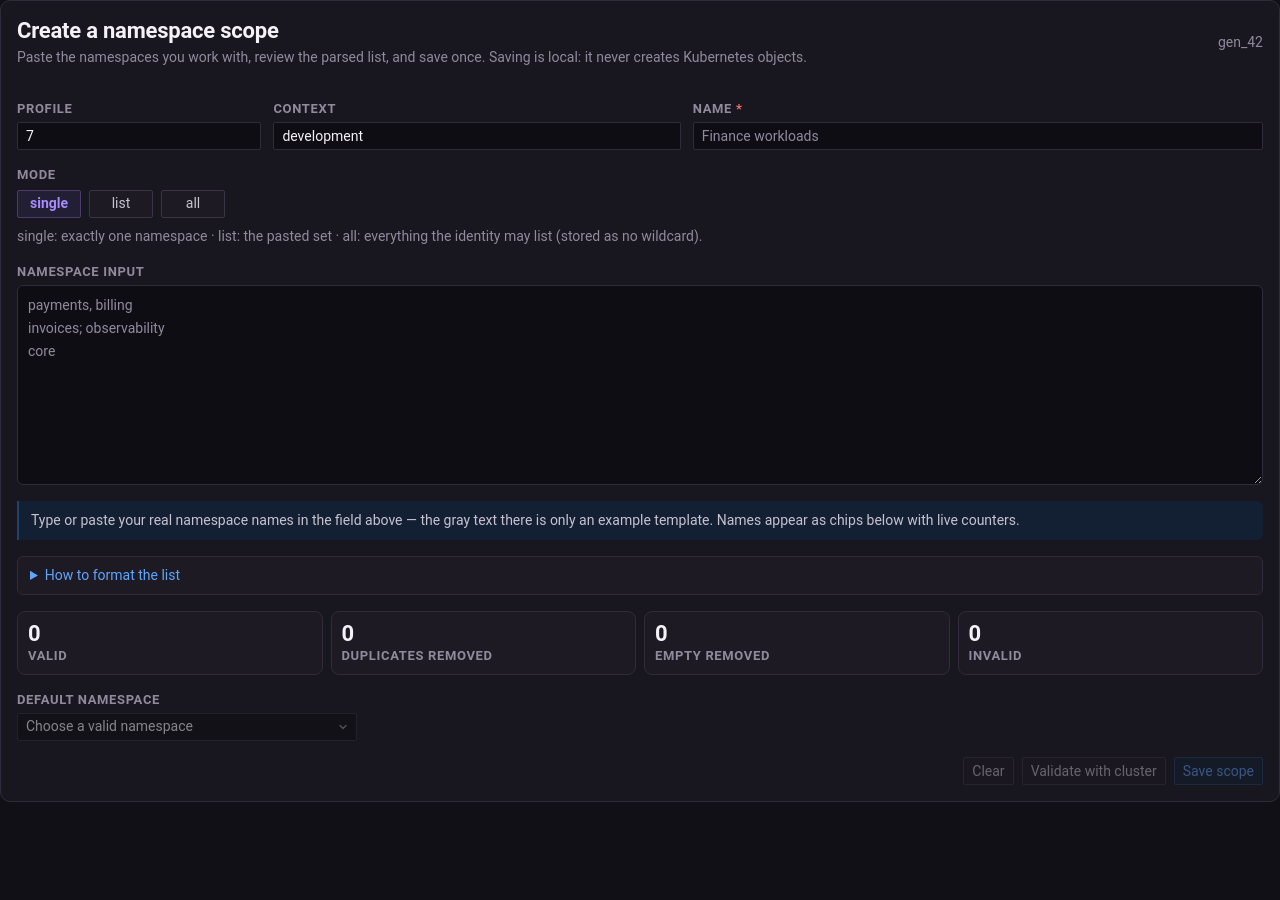
Scenario: namespace scope editor › clears a newly saved scope only after a successful save (false)
In the text box labelled "Namespace input": point(640, 385) [17, 285, 1263, 485], type "payments"
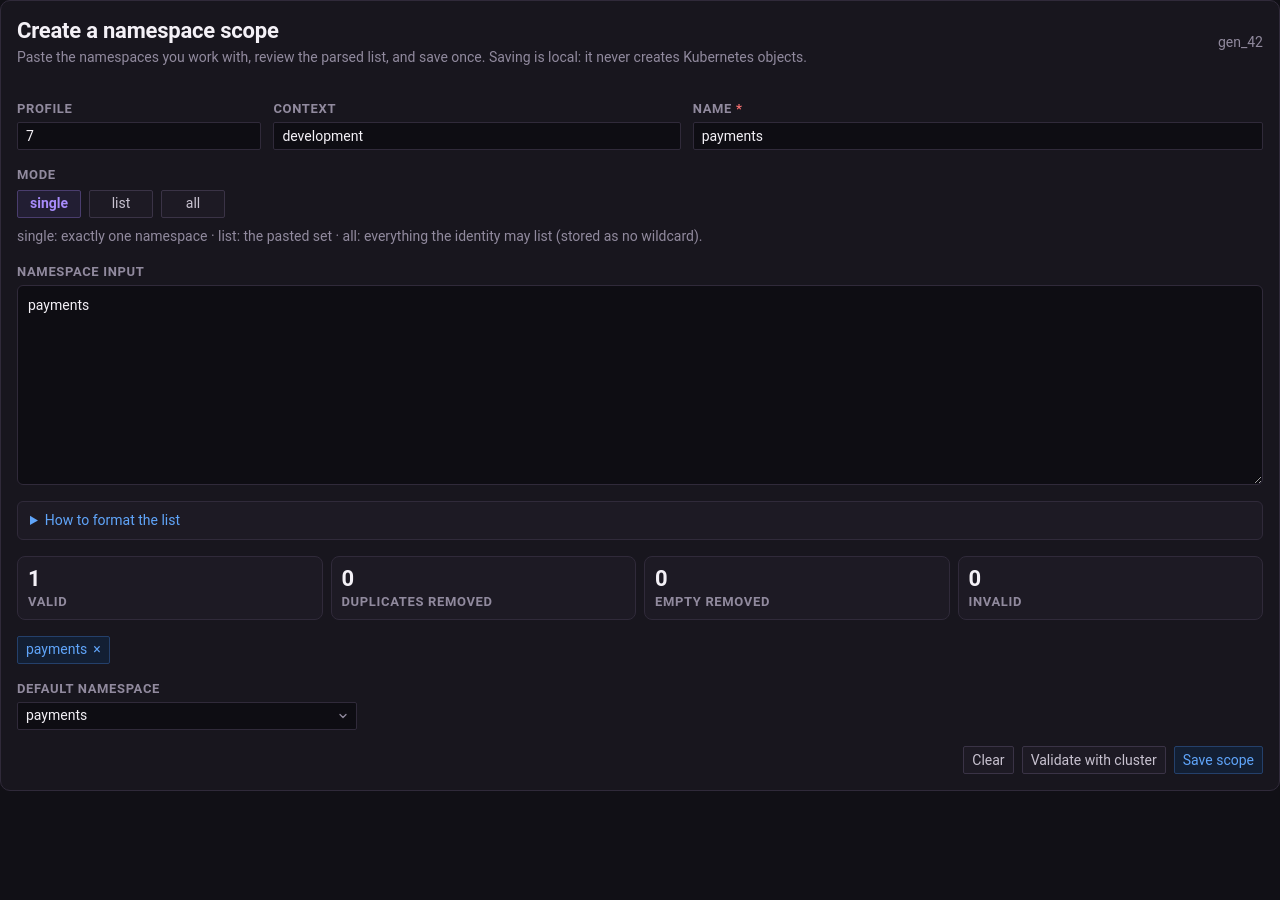
Replace the text in the field named "Scope name" with "New scope": point(978, 136) [693, 122, 1263, 150]
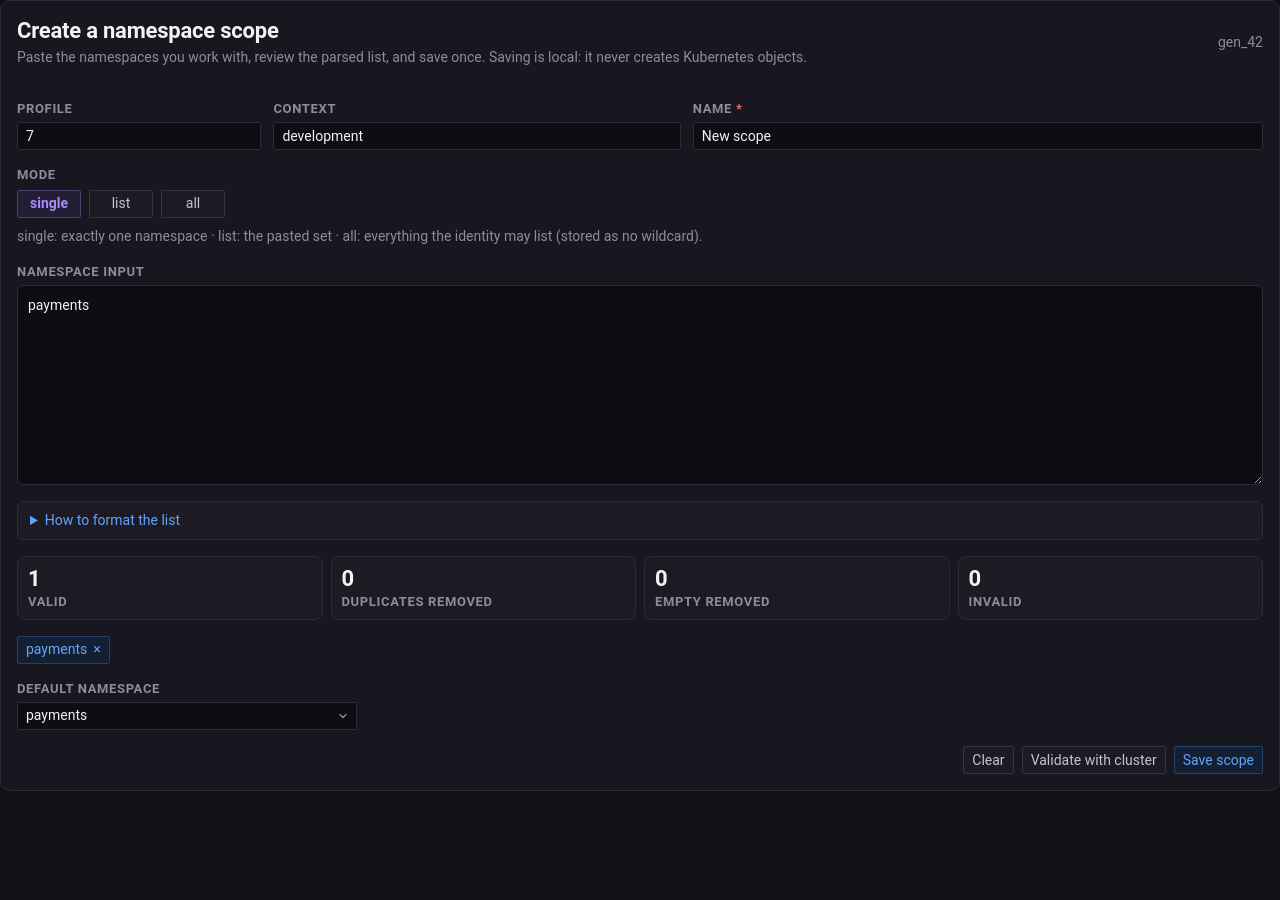
Click the button "Save scope": point(1218, 760) [1174, 746, 1263, 774]
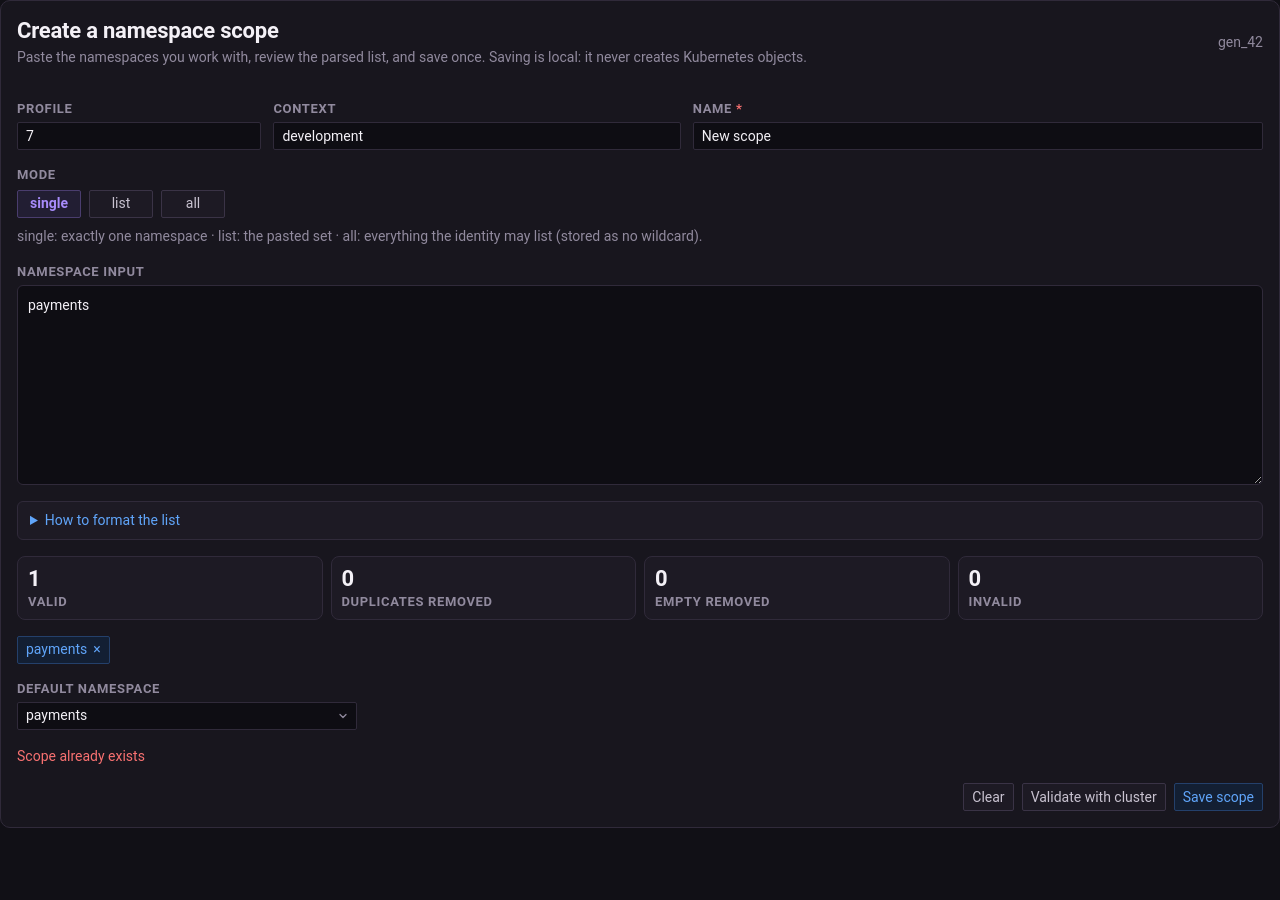
Expected: the message "Scope already exists" is shown, [17, 748, 145, 764]
